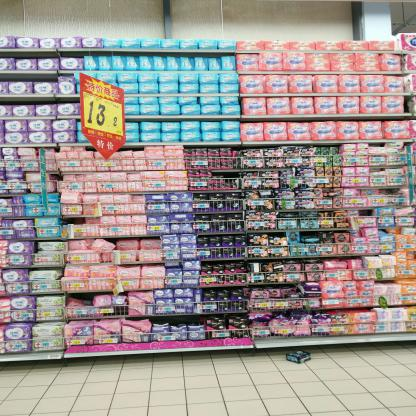Void: (153, 312, 206, 322), (3, 74, 57, 82), (65, 218, 85, 226), (71, 293, 91, 301), (380, 190, 398, 196), (370, 143, 384, 147), (219, 174, 234, 177), (365, 211, 373, 214)
